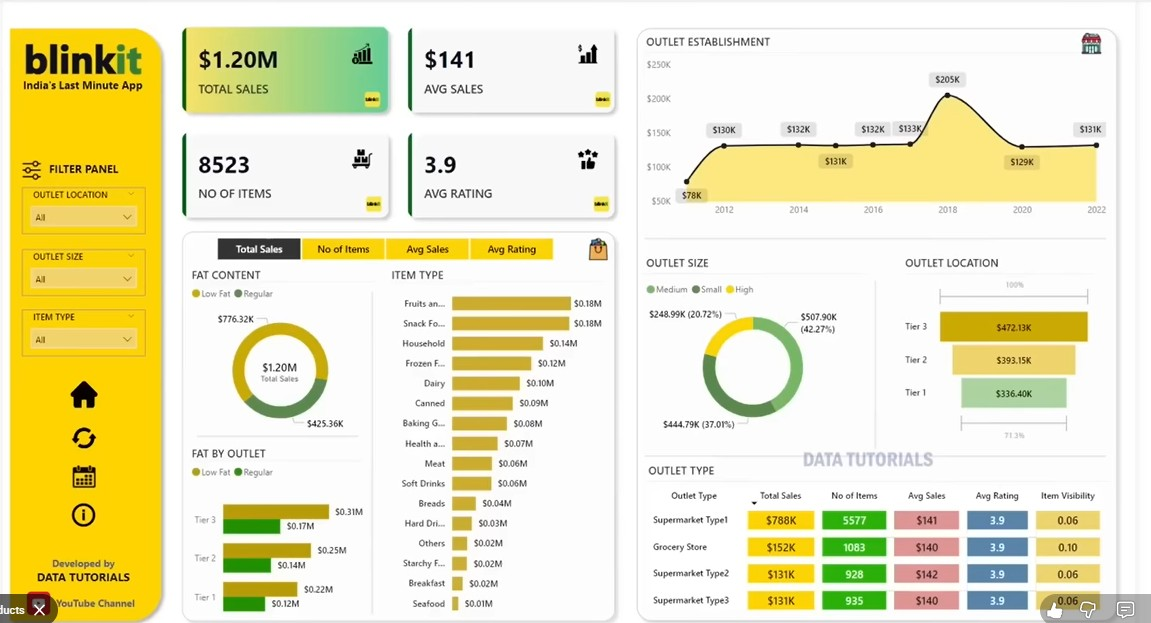

Layout of this report page (visuals, bound fields, positions):
{"tool":"powerbi","page":{"name":"Page 1","canvas":[1920,1080],"ordinal":0},"visuals":[{"type":"shape","box":[2.2,0,279.7,1080.9],"z":0},{"type":"textbox","box":[0,75.6,279.7,143.6],"z":1000},{"type":"cardVisual","fields":{"Data":["BlinkIT Grocery Data.TOTAL SALES","BlinkIT Grocery Data.NO OF ITEM","BlinkIT Grocery Data.AVG SALES","BlinkIT Grocery Data.AVG RATING"]},"box":[279.7,0,854.2,219.2],"z":2000},{"type":"shape","box":[279.7,219.2,854.2,861.7],"z":3000},{"type":"donutChart","fields":{"Category":["BlinkIT Grocery Data.Item Fat Content"],"Y":["BlinkIT Grocery Data.TOTAL SALES"]},"box":[278.6,354.2,403.1,332.6],"z":4000},{"type":"textbox","box":[244.4,335.1,335.1,75.6],"z":5000},{"type":"textbox","box":[708,335.1,335.1,75.6],"z":6000},{"type":"textbox","box":[264.6,687.9,335.1,75.6],"z":7000},{"type":"slicer","fields":{"Values":["Metrics.Metrics"]},"box":[365.4,259.5,632.4,58],"z":8000},{"type":"clusteredBarChart","fields":{"Category":["BlinkIT Grocery Data.Outlet Location Type"],"Series":["BlinkIT Grocery Data.Item Fat Content"],"Y":["BlinkIT Grocery Data.TOTAL SALES"]},"box":[317.5,725.7,365.4,325],"z":9000},{"type":"clusteredBarChart","fields":{"Category":["BlinkIT Grocery Data.Item Type"],"Y":["BlinkIT Grocery Data.TOTAL SALES"]},"box":[667.7,380.5,435.9,640],"z":10000},{"type":"shape","box":[1143.9,0,776.1,1080.9],"z":11000},{"type":"shape","box":[531.7,327.6,299.8,720.6],"z":12000},{"type":"shape","box":[1162.1,203,758.4,299.8],"z":13000},{"type":"shape","box":[1151.3,598.3,758.4,299.8],"z":14000},{"type":"shape","box":[1161.6,315,758.4,357.8],"z":15000},{"type":"lineChart","title":"Outlet Establishment","fields":{"Category":["BlinkIT Grocery Data.Outlet Establishment Year"],"Y":["BlinkIT Grocery Data.TOTAL SALES"]},"box":[1181.5,30.2,719.3,321.8],"z":16000},{"type":"donutChart","title":"OUTLET SIZE","fields":{"Category":["BlinkIT Grocery Data.Outlet Size"],"Y":["BlinkIT Grocery Data.TOTAL SALES"]},"box":[1162.1,354.2,380.2,393.1],"z":17000},{"type":"funnel","title":"Outlet Location","fields":{"Category":["BlinkIT Grocery Data.Outlet Location Type"],"Y":["BlinkIT Grocery Data.TOTAL SALES"]},"box":[1542.2,354.2,378,393.1],"z":17001},{"type":"pivotTable","title":"OUTLATE TYPE","fields":{"Rows":["BlinkIT Grocery Data.Outlet Type"],"Values":["BlinkIT Grocery Data.TOTAL SALES","BlinkIT Grocery Data.NO OF ITEM","BlinkIT Grocery Data.AVG SALES","BlinkIT Grocery Data.AVG RATING","Avg(BlinkIT Grocery Data.Item Visibility)"]},"box":[1162.1,747.4,738.7,302.4],"z":17002},{"type":"slicer","title":"OUTLAT LOCATION","fields":{"Values":["BlinkIT Grocery Data.Outlet Location Type"]},"box":[21.6,397.4,241.9,97.2],"z":17003},{"type":"slicer","title":"OUTLAT SIZE","fields":{"Values":["BlinkIT Grocery Data.Outlet Size"]},"box":[21.6,520.6,241.9,97.2],"z":17004},{"type":"slicer","title":"OUTLAT TYPE","fields":{"Values":["BlinkIT Grocery Data.Outlet Type"]},"box":[19.4,637.2,241.9,97.2],"z":17005},{"type":"textbox","box":[19.4,883.4,222.5,136.1],"z":17006},{"type":"textbox","box":[23.8,302.4,239.8,64.8],"z":17007},{"type":"textbox","box":[0,157.7,300.2,34.6],"z":17008}]}

Visuals, with their boxes on the page's 1920x1080 design canvas (x1, y1, x2, y2). These are canvas units, not pixel positions in the 1151x623 screenshot, which may show the page scaled, cropped or inside an application window:
shape: x1=2, y1=0, x2=282, y2=1081
textbox: x1=0, y1=76, x2=280, y2=219
cardVisual - BlinkIT Grocery Data.TOTAL SALES x BlinkIT Grocery Data.NO OF ITEM: x1=280, y1=0, x2=1134, y2=219
shape: x1=280, y1=219, x2=1134, y2=1081
donutChart - BlinkIT Grocery Data.Item Fat Content x BlinkIT Grocery Data.TOTAL SALES: x1=279, y1=354, x2=682, y2=687
textbox: x1=244, y1=335, x2=580, y2=411
textbox: x1=708, y1=335, x2=1043, y2=411
textbox: x1=265, y1=688, x2=600, y2=764
slicer - Metrics.Metrics: x1=365, y1=260, x2=998, y2=318
clusteredBarChart - BlinkIT Grocery Data.Outlet Location Type x BlinkIT Grocery Data.Item Fat Content: x1=318, y1=726, x2=683, y2=1051
clusteredBarChart - BlinkIT Grocery Data.Item Type x BlinkIT Grocery Data.TOTAL SALES: x1=668, y1=380, x2=1104, y2=1020
shape: x1=1144, y1=0, x2=1920, y2=1081
shape: x1=532, y1=328, x2=832, y2=1048
shape: x1=1162, y1=203, x2=1920, y2=503
shape: x1=1151, y1=598, x2=1910, y2=898
shape: x1=1162, y1=315, x2=1920, y2=673
"Outlet Establishment" lineChart: x1=1182, y1=30, x2=1901, y2=352
"OUTLET SIZE" donutChart: x1=1162, y1=354, x2=1542, y2=747
"Outlet Location" funnel: x1=1542, y1=354, x2=1920, y2=747
"OUTLATE TYPE" pivotTable: x1=1162, y1=747, x2=1901, y2=1050
"OUTLAT LOCATION" slicer: x1=22, y1=397, x2=264, y2=495
"OUTLAT SIZE" slicer: x1=22, y1=521, x2=264, y2=618
"OUTLAT TYPE" slicer: x1=19, y1=637, x2=261, y2=734
textbox: x1=19, y1=883, x2=242, y2=1020
textbox: x1=24, y1=302, x2=264, y2=367
textbox: x1=0, y1=158, x2=300, y2=192
